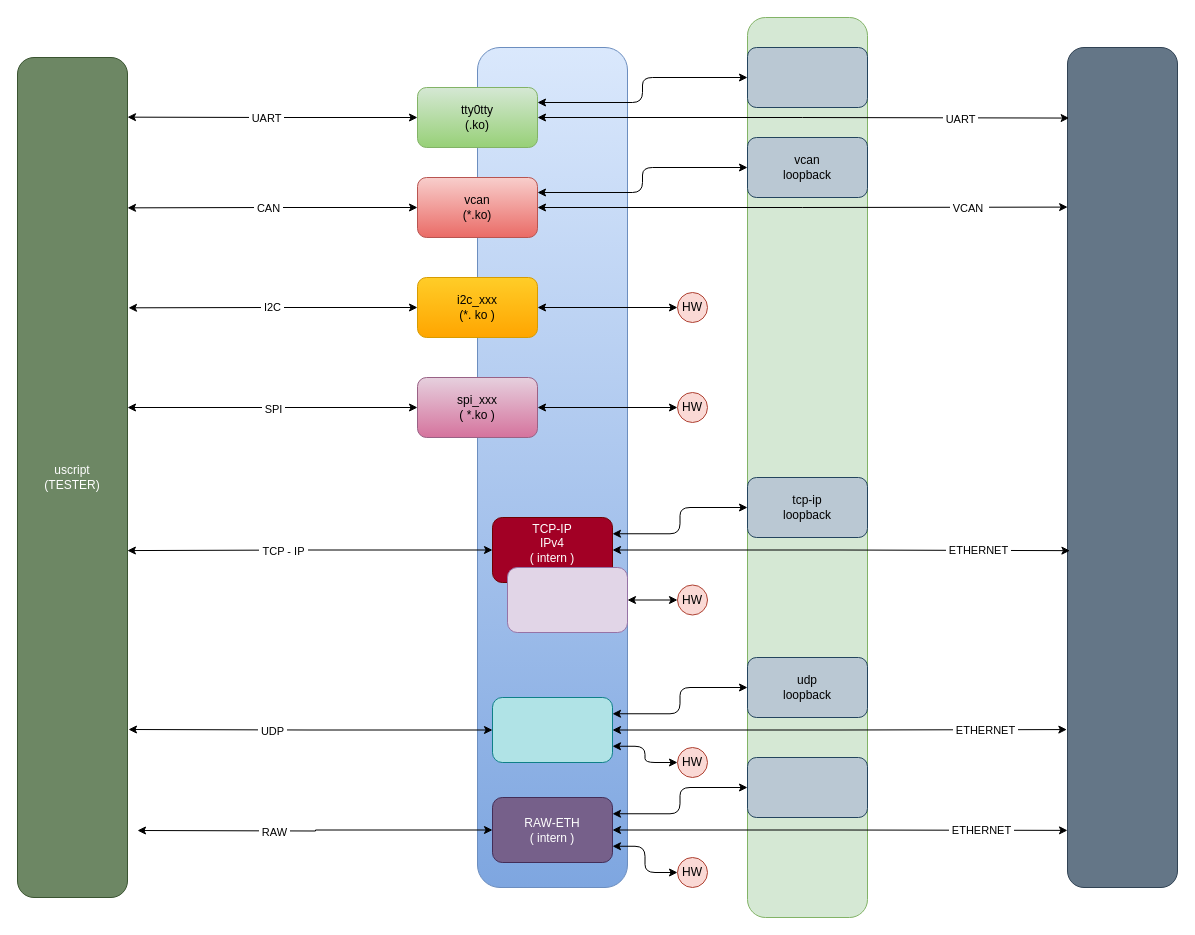
The diagram is 1195 pixels wide and 935 high, and some of its shapes have lost their labels. Here are the shapes that lost their labels. From the top down, the box of each, then its label:
(746, 46, 868, 108): UART loopback
(476, 46, 628, 888): Linux Kernel
(746, 16, 868, 918): Testers
(1066, 46, 1178, 888): SIMULATION APP
(506, 566, 628, 632): TCP-IP IPv6 ( intern )
(492, 696, 612, 762): UDP ( intern )
(746, 756, 868, 818): raw-eth loopback
